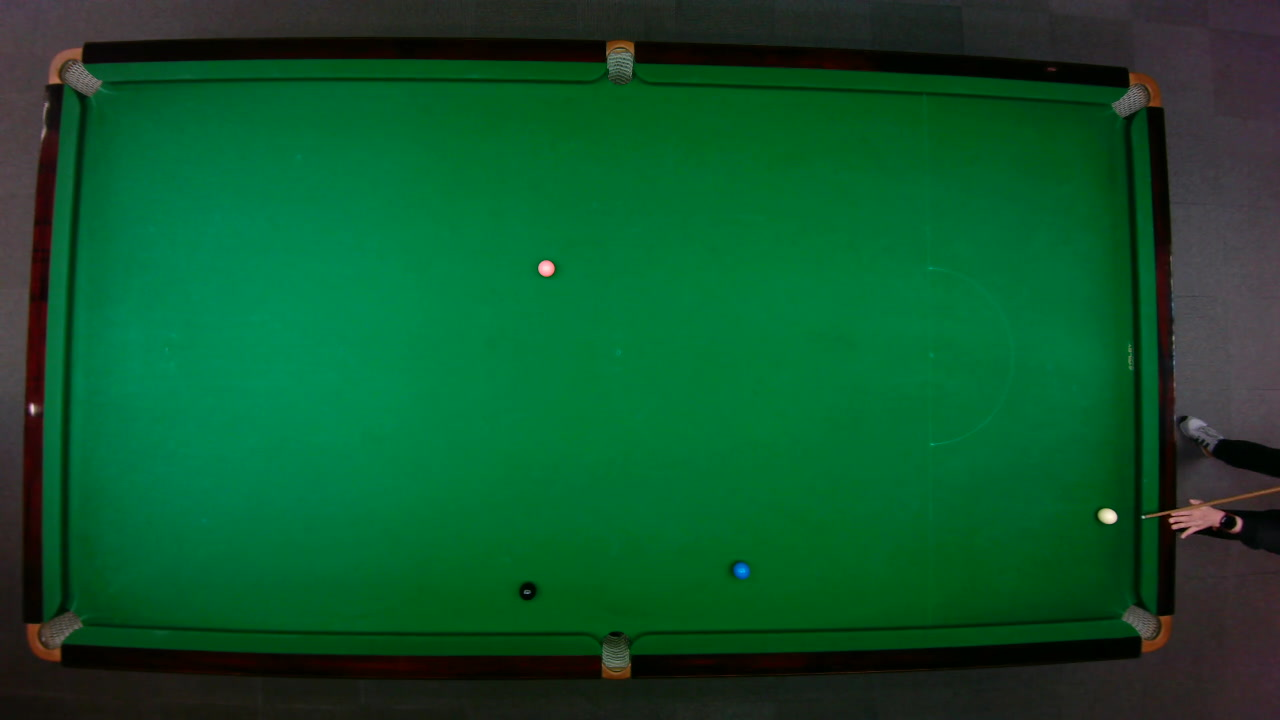bag: (24, 609, 84, 661), (46, 46, 102, 97), (1119, 603, 1172, 652), (1108, 71, 1162, 118), (600, 629, 629, 679), (605, 38, 633, 85)
black: (518, 581, 536, 600)
blue: (731, 560, 750, 579)
cue: (1140, 485, 1279, 522)
pink: (536, 258, 555, 277)
white: (1095, 506, 1118, 524)
zone: (927, 265, 1013, 445)
